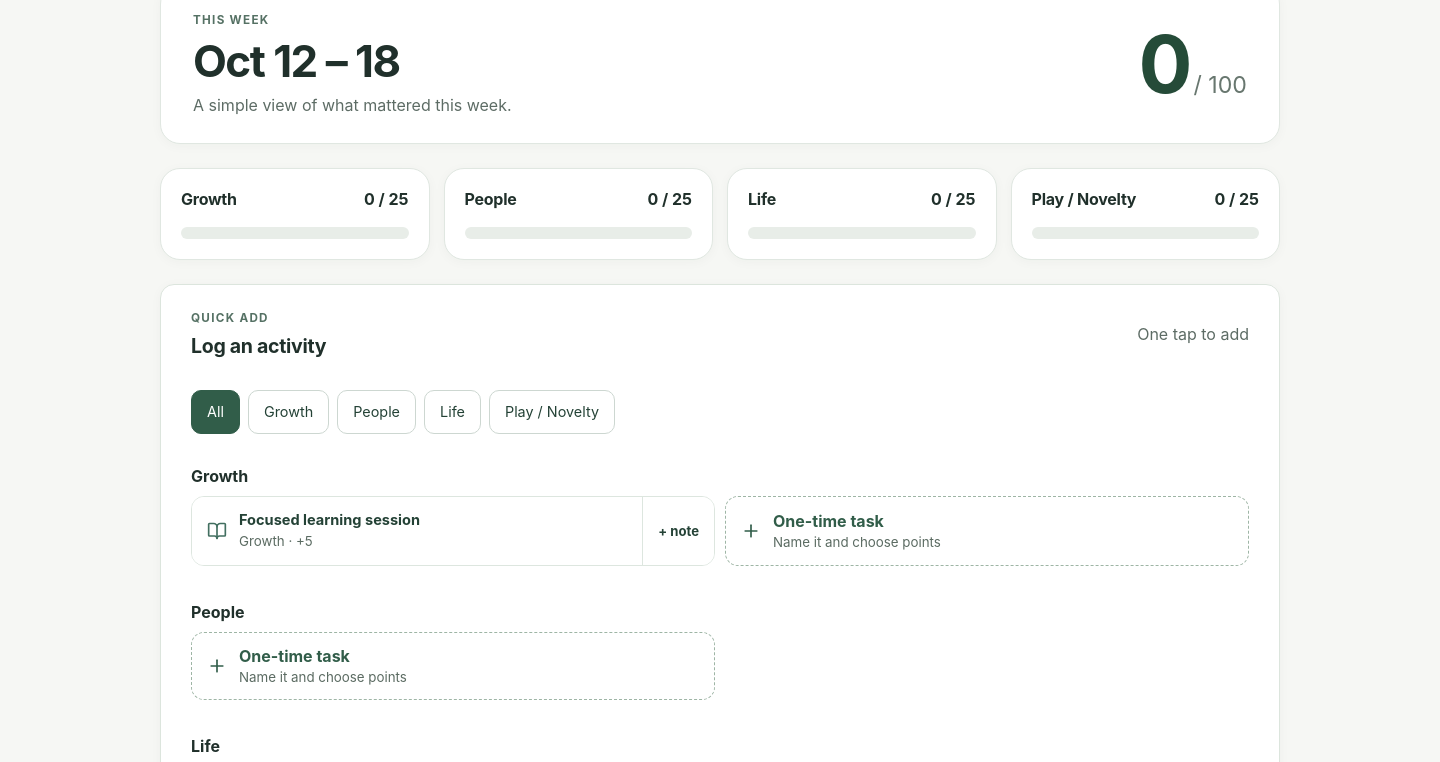
it: dashboard › copies an activity to last week while keeping it in recent activity
Click the button "Focused learning session Growth · +5" at (417, 531), box [192,497,642,565]
(page scrolled)
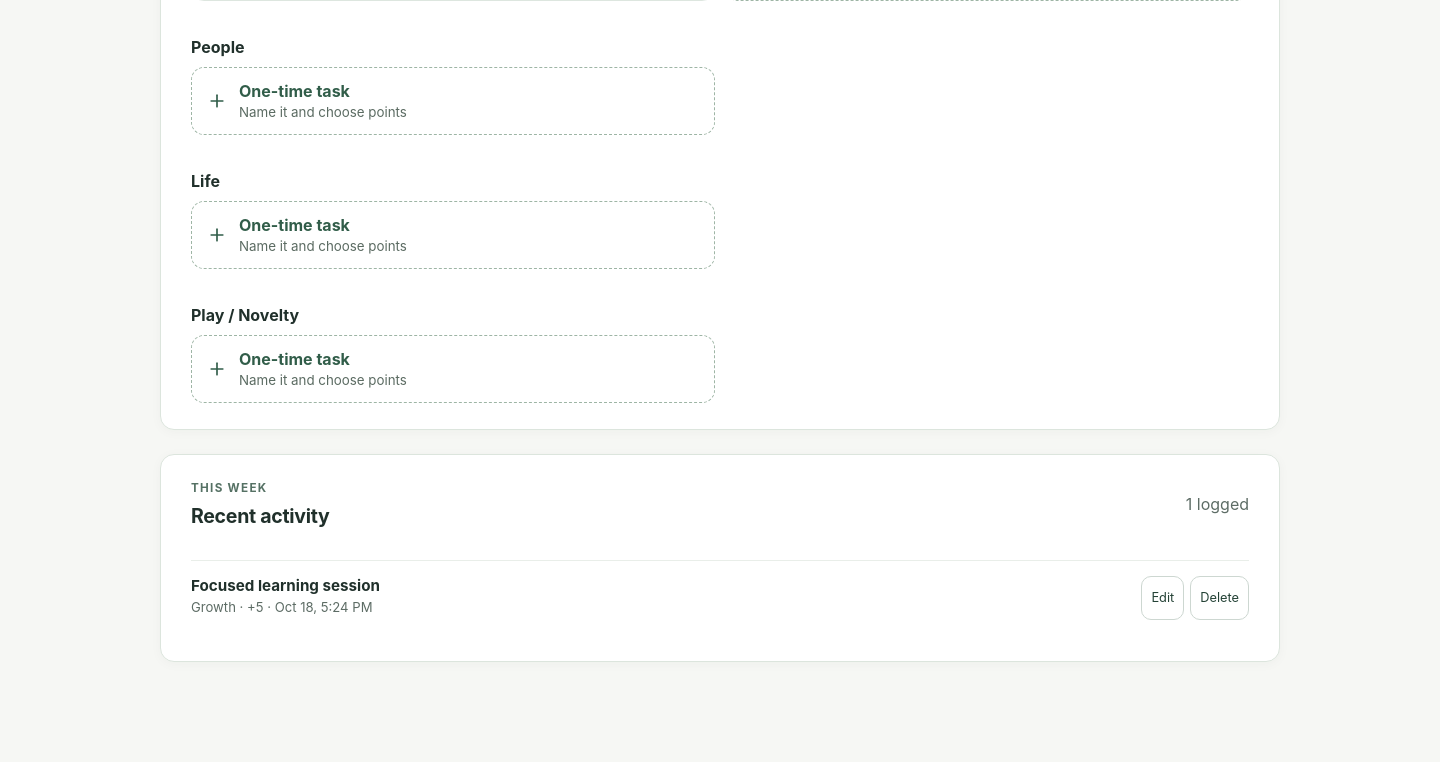
expect the button "Edit" is shown: met
Click the button "Edit" at (1163, 598), box [1141,576,1184,620]
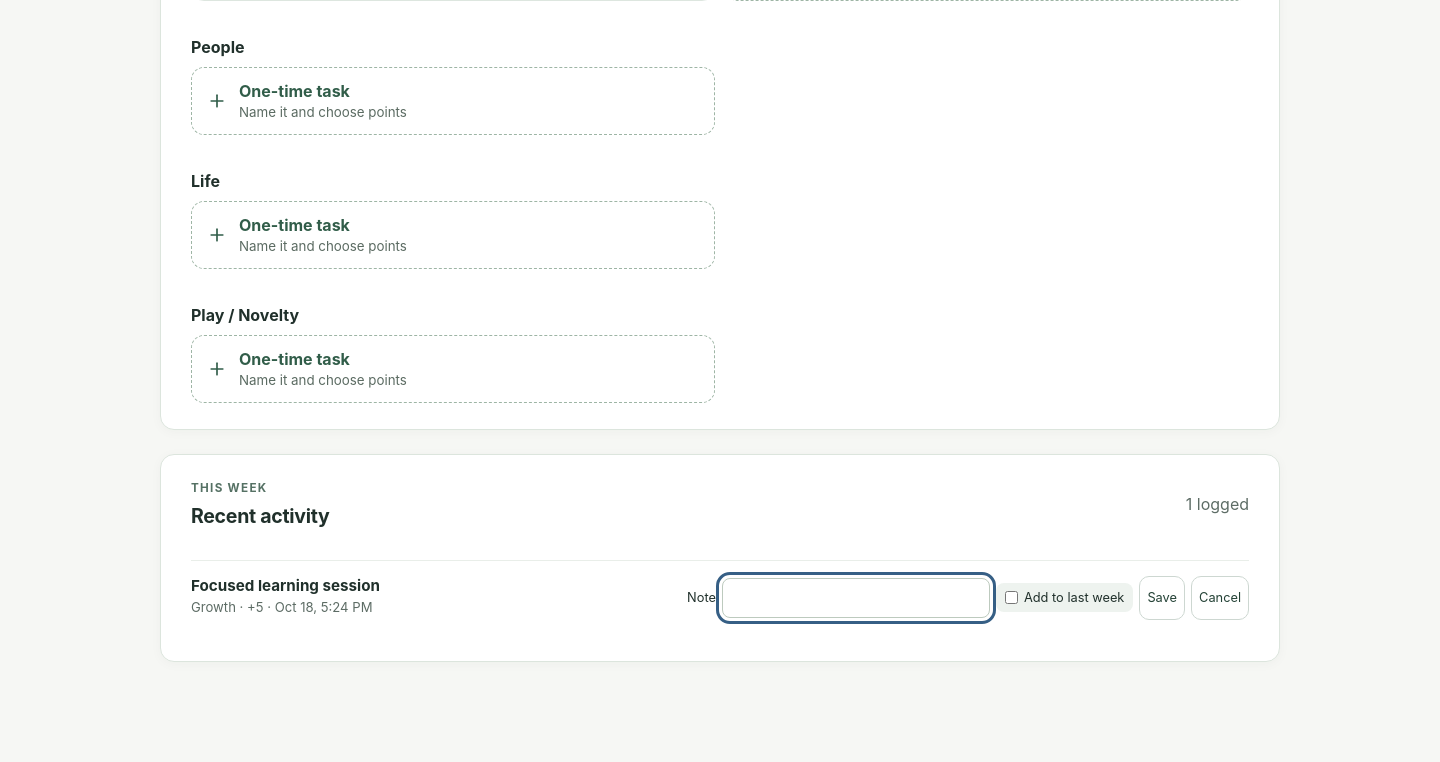
Click the checkbox labelled "Add to last week" at (1012, 598), box [1005,591,1018,604]
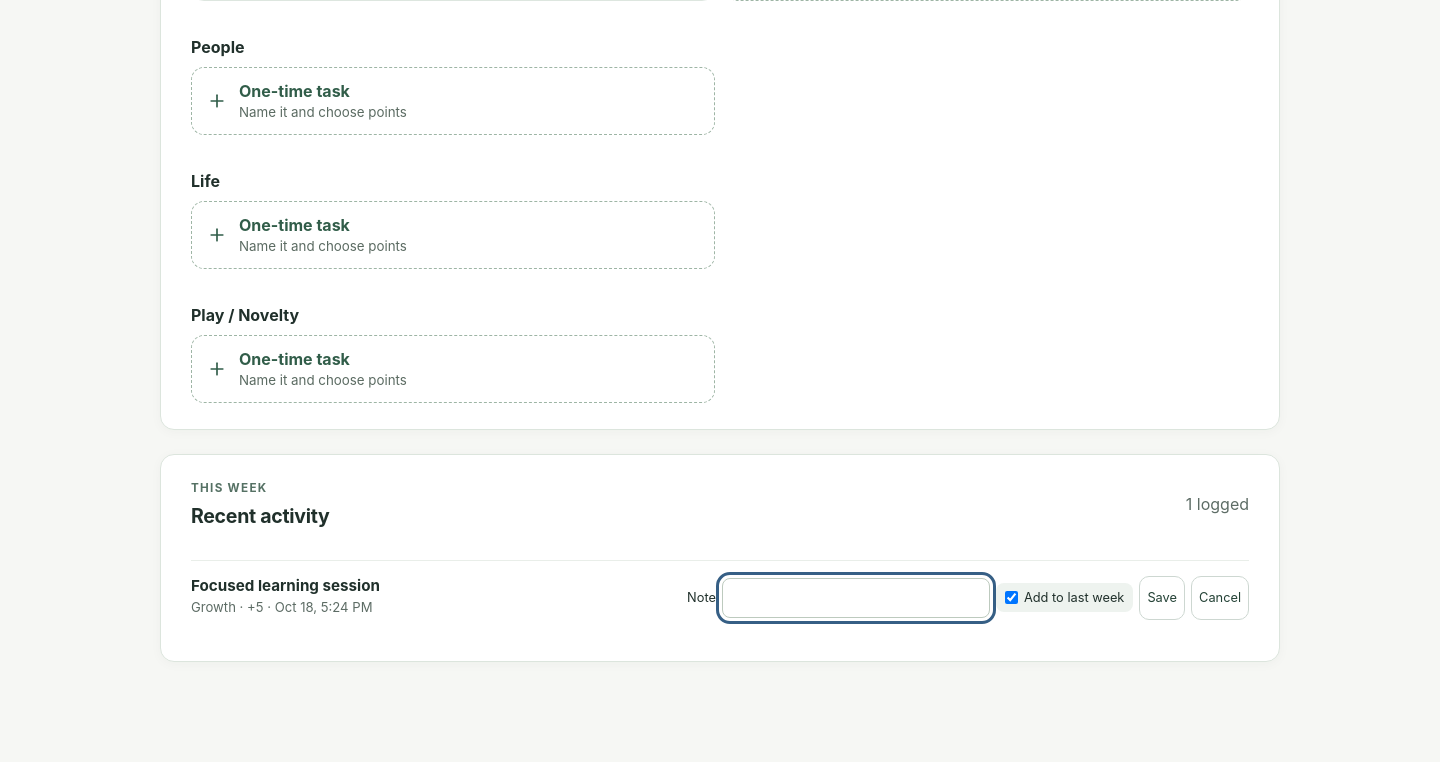
Click the button "Save" at (1162, 598), box [1139,576,1185,620]
(page scrolled)
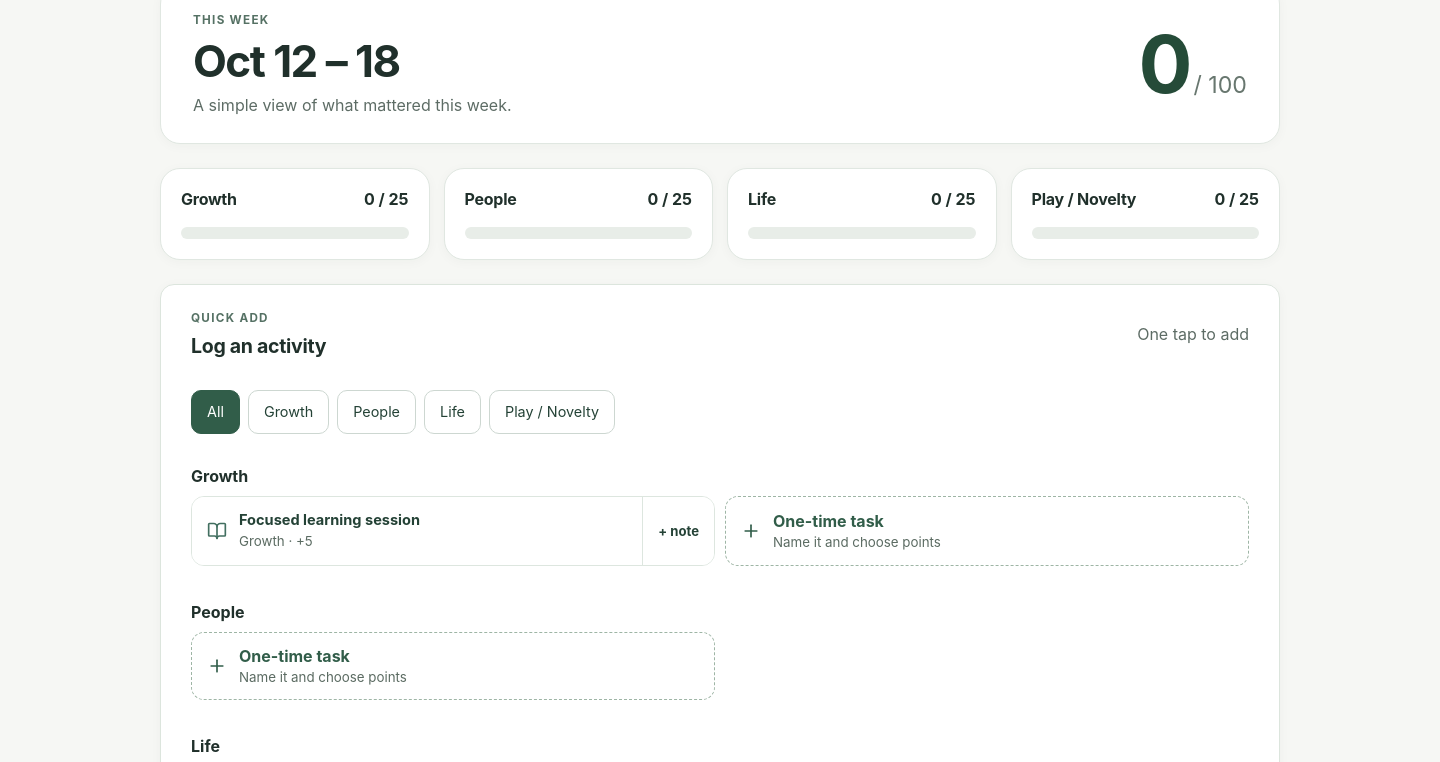
expect the element named "Weekly score 0 out of 100" is shown: met, box [1138,15,1247,112]
